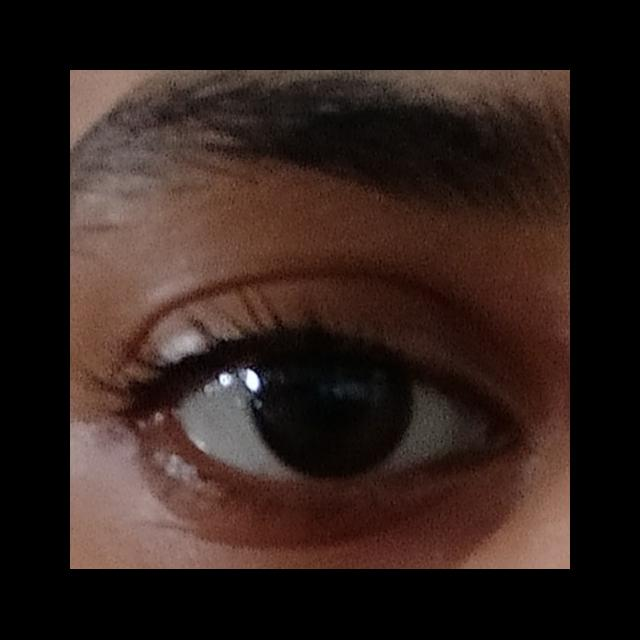eye: (171, 345, 461, 485)
iris: (248, 350, 416, 480)
